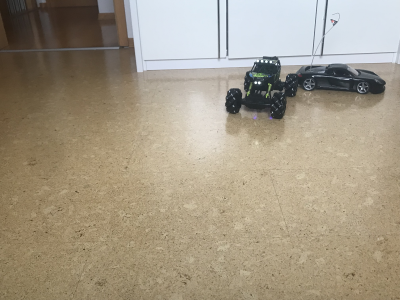remote control car: (223, 54, 300, 119)
